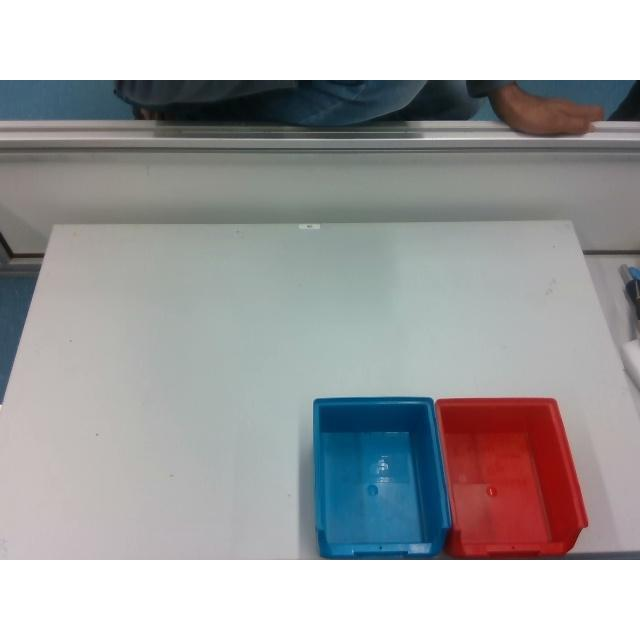container_box_blue: (313, 396, 449, 556)
container_box_red: (438, 398, 586, 554)
